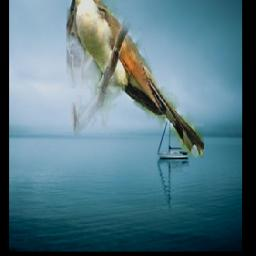Cuckoo: (67, 0, 205, 159)
